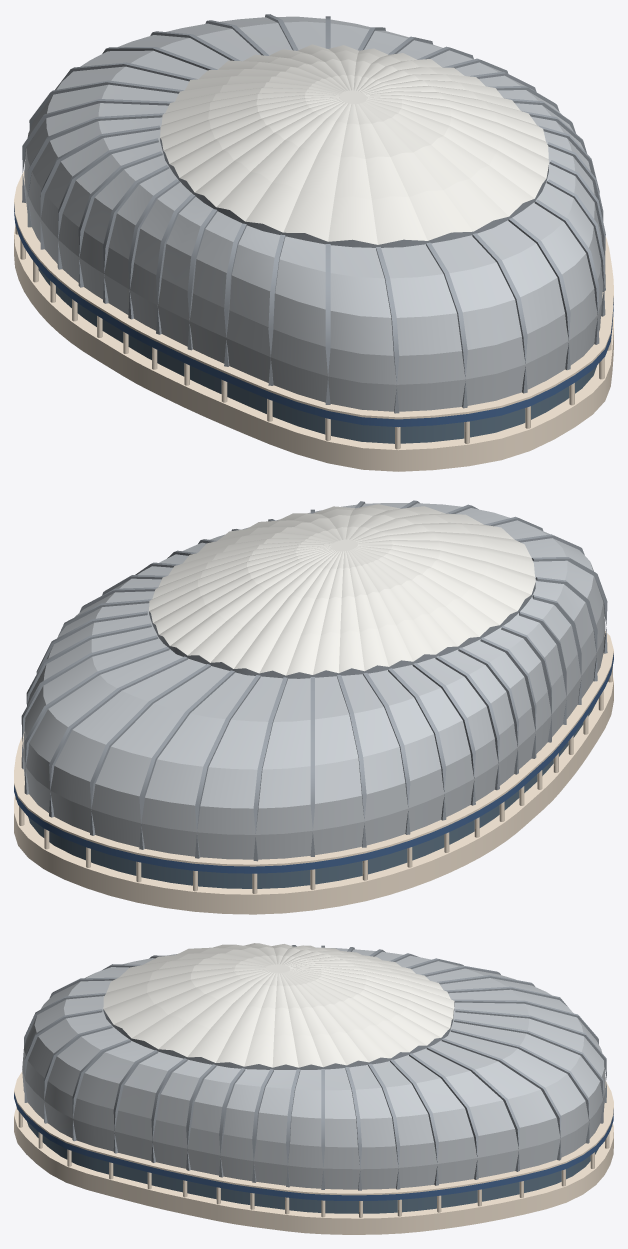
The model's file is seoul-gocheok-sky-dome.glb.
3 renders of one model, top to bottom at view 1: azimuth 30°, elevation 25°; view 2: azimuth 150°, elevation 25°; view 3: azimuth 270°, elevation 25°, orthographic. The views are drawn at different scales.
Visible parts, largest first — view 1: Gocheok Sky Dome; view 2: Gocheok Sky Dome; view 3: Gocheok Sky Dome.
Boxes of the visible parts, x1=… form: Gocheok Sky Dome: x1=14, y1=14, x2=613, y2=471; Gocheok Sky Dome: x1=14, y1=500, x2=613, y2=914; Gocheok Sky Dome: x1=14, y1=943, x2=613, y2=1234.
Bounding box in the file's own units: 149 × 67.61 × 213.
